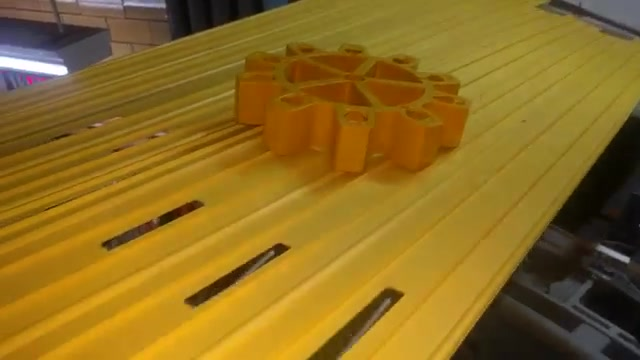gear: (233, 27, 478, 176)
